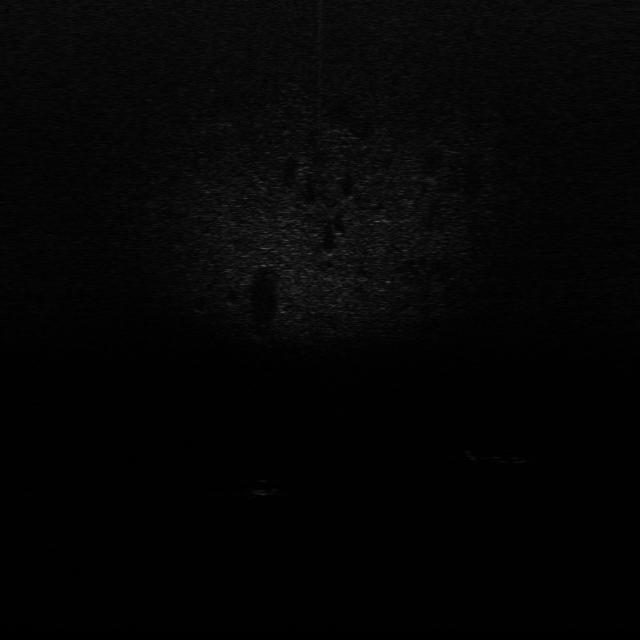ball: (248, 476, 281, 498)
human body: (450, 446, 546, 467)
